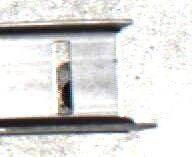40ngpress: (12, 19, 145, 132)
